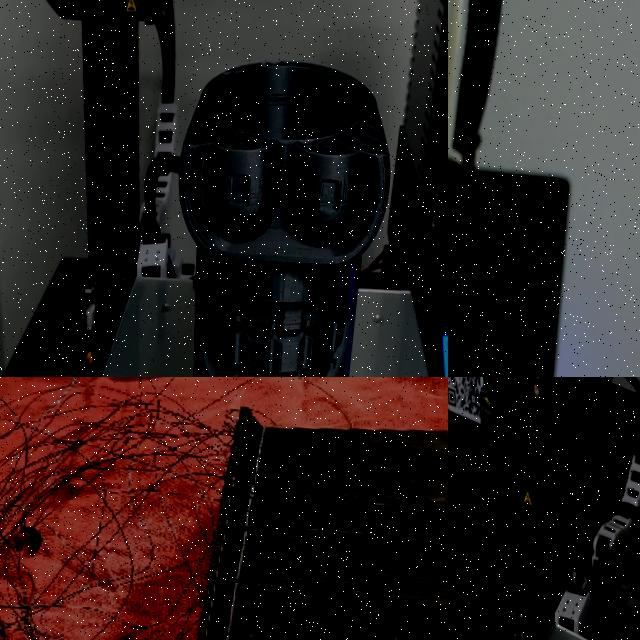spaghetti: (0, 377, 204, 640)
